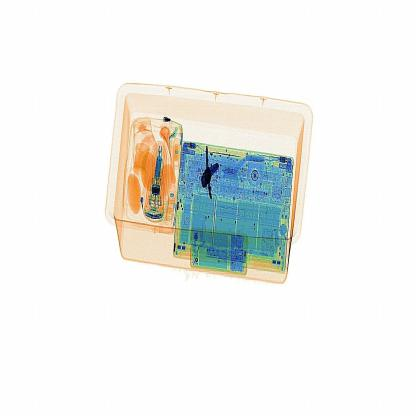wrench: (198, 139, 220, 200)
